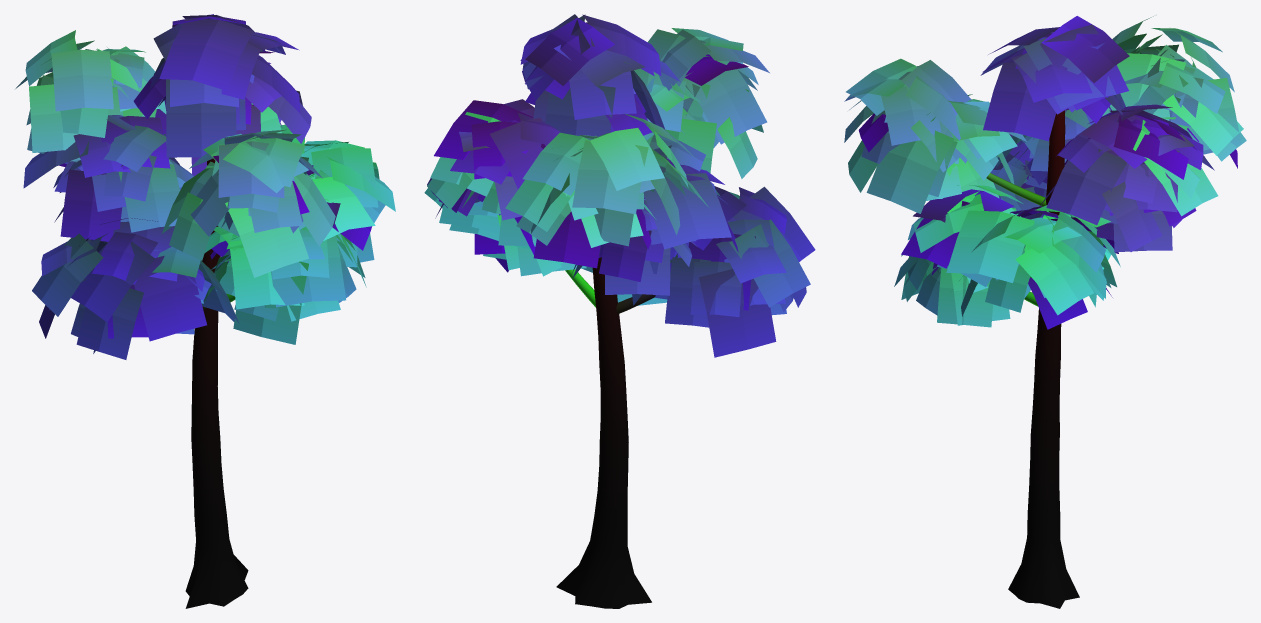
Rendered from Jungle3.fbx.
3 renders of one model, left to right at view 1: azimuth 30°, elevation 25°; view 2: azimuth 150°, elevation 25°; view 3: azimuth 270°, elevation 25°, orthographic.
Visible parts, largest first — view 1: Jungle3; view 2: Jungle3; view 3: Jungle3.
Part boxes in pixels (x1,y1,x2,y2): Jungle3: (15, 14, 395, 608); Jungle3: (424, 14, 815, 608); Jungle3: (844, 16, 1246, 608).
Size of the model in its own units: 16.47 by 25.46 by 16.22.
